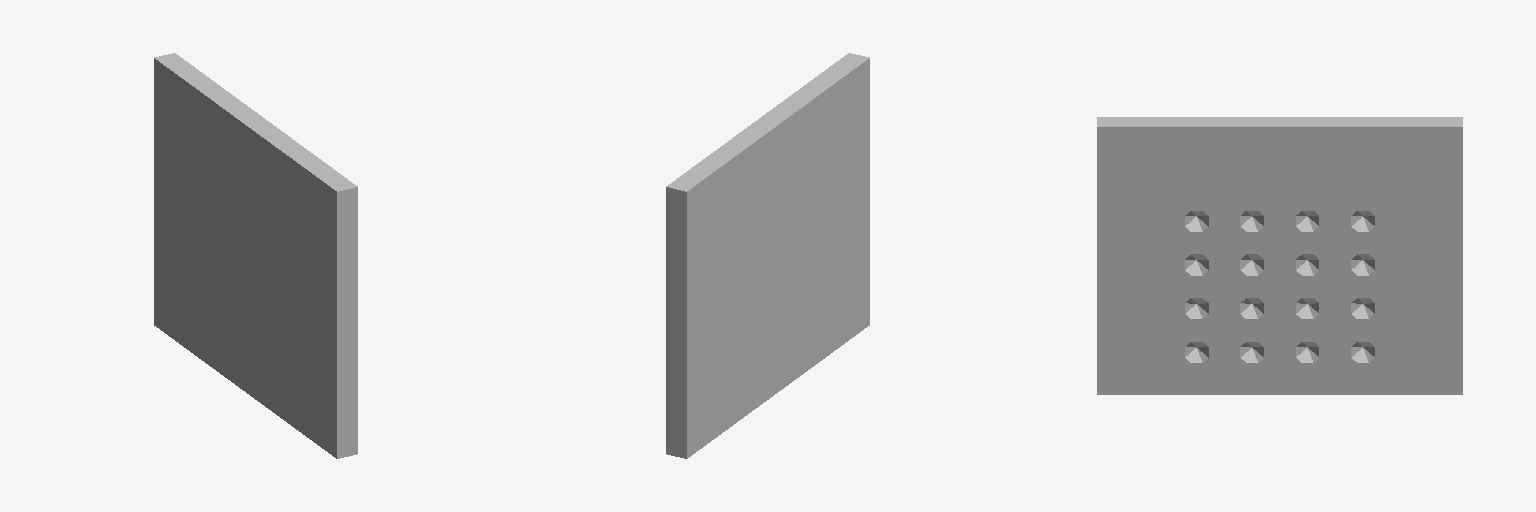
The model's file is PyramidDoor.obj.
The picture shows the model from 3 angles: view 1: azimuth 30°, elevation 25°; view 2: azimuth 150°, elevation 25°; view 3: azimuth 270°, elevation 25°; orthographic projection.
Parts seen in each view (by area): view 1: Door; view 2: Door; view 3: Door.
Part boxes in pixels (left/top/right/bottom): Door: left=154, top=53, right=357, bottom=458; Door: left=666, top=53, right=869, bottom=458; Door: left=1097, top=117, right=1462, bottom=394.
Size of the model in its own units: 2 by 24.47 by 30.4.